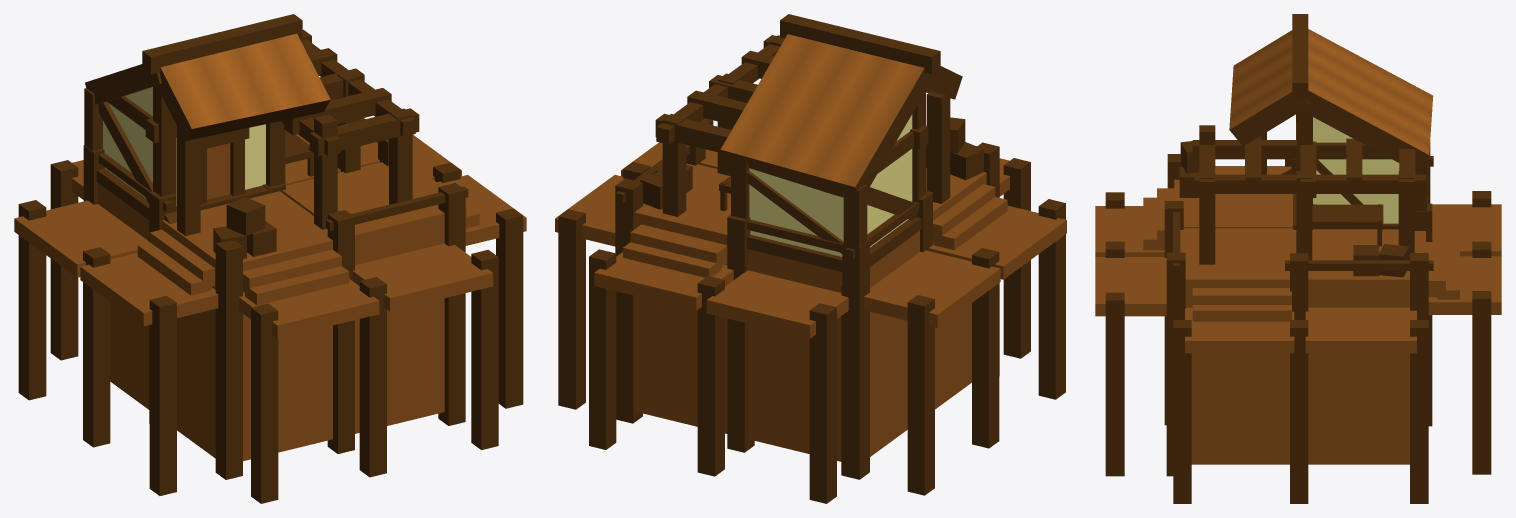
Rendered from fishinghut.fbx.
3 renders of one model, left to right at view 1: azimuth 30°, elevation 25°; view 2: azimuth 150°, elevation 25°; view 3: azimuth 270°, elevation 25°, orthographic. The views are drawn at different scales.
Visible parts, largest first — view 1: polySurface522; view 2: polySurface522; view 3: polySurface522.
Part boxes in pixels (bbox=[...]): polySurface522: bbox=[14, 14, 526, 503]; polySurface522: bbox=[555, 14, 1066, 503]; polySurface522: bbox=[1095, 14, 1501, 503].
Size of the model in its own units: 168 by 157 by 165.
Materials: 1 (1 with a texture image).
